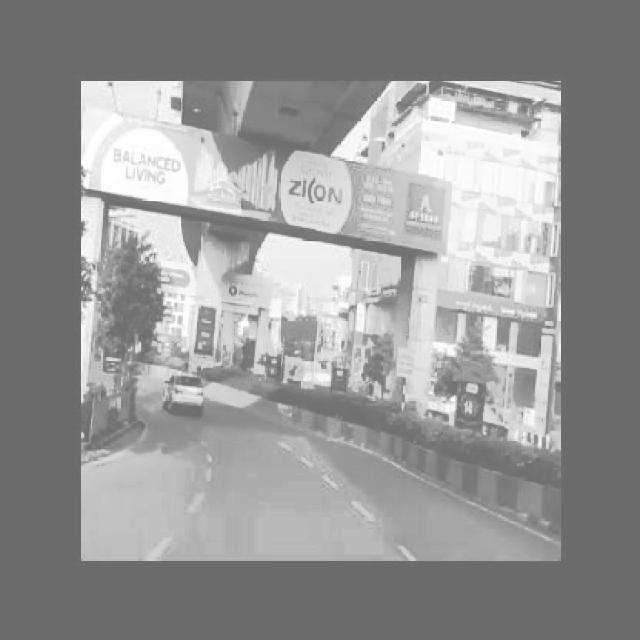Car: (163, 358, 211, 428)
